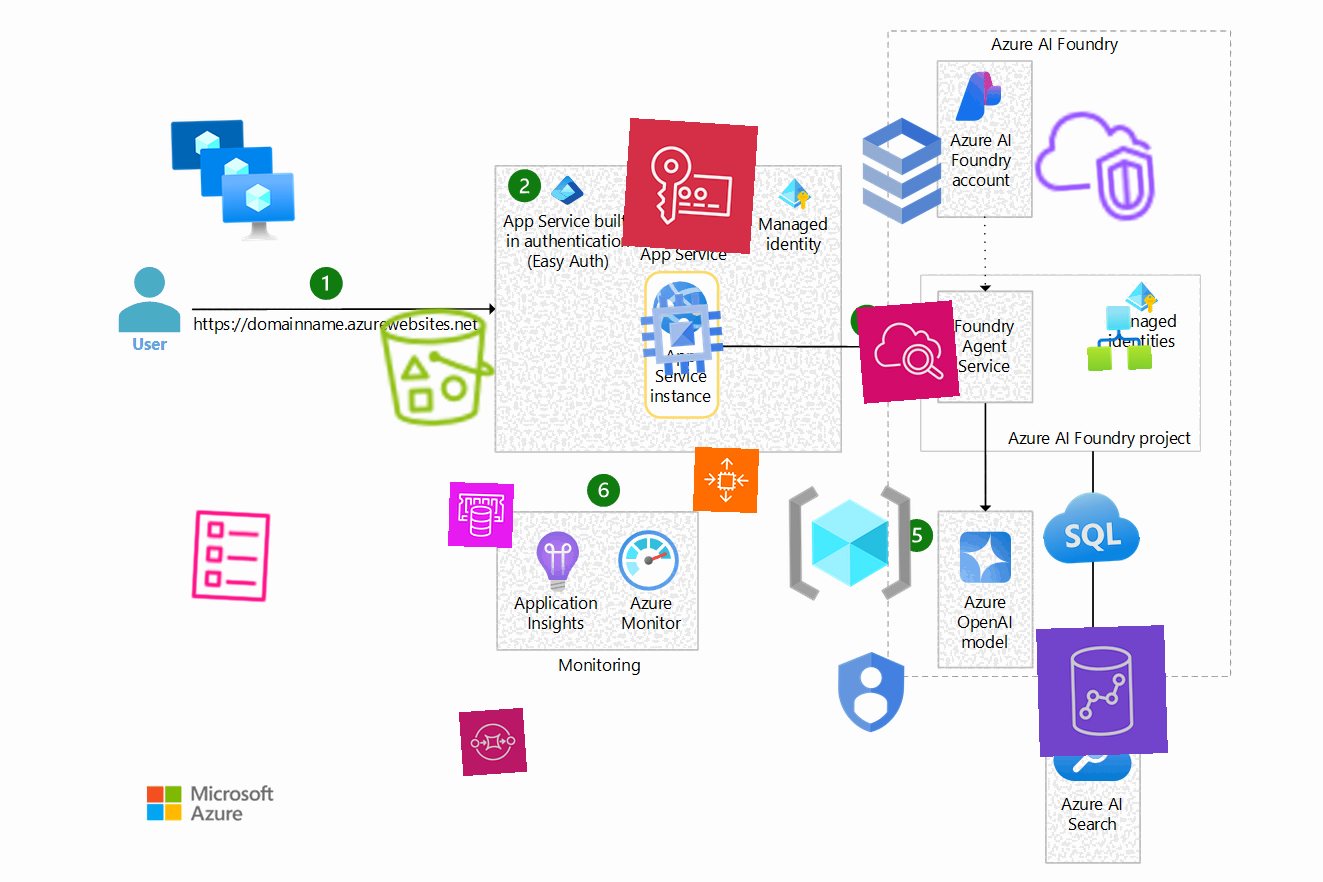aws_amazon_cloudwatch: (856, 300, 960, 404)
aws_amazon_ec2_auto_scaling: (692, 446, 760, 514)
aws_amazon_elasticache: (448, 482, 514, 548)
aws_amazon_redshift: (1036, 625, 1168, 757)
aws_amazon_simple_queue_service: (458, 707, 528, 777)
aws_cloudformation_template: (179, 505, 281, 607)
aws_key_management_service: (621, 117, 759, 255)
aws_simple_storage_service_bucket_with_objects: (371, 300, 505, 434)
aws_vpc_virtual_private_cloud_vpc: (1025, 98, 1163, 236)
azure_logic_apps: (1086, 305, 1152, 371)
azure_resource_groups: (785, 478, 915, 608)
azure_sql: (1040, 478, 1142, 580)
azure_vm_scale_sets: (165, 112, 297, 244)
gcp_cloud_sql: (837, 106, 967, 236)
gcp_compute_engine: (630, 282, 734, 386)
gcp_identity_and_access_management: (822, 643, 920, 741)
